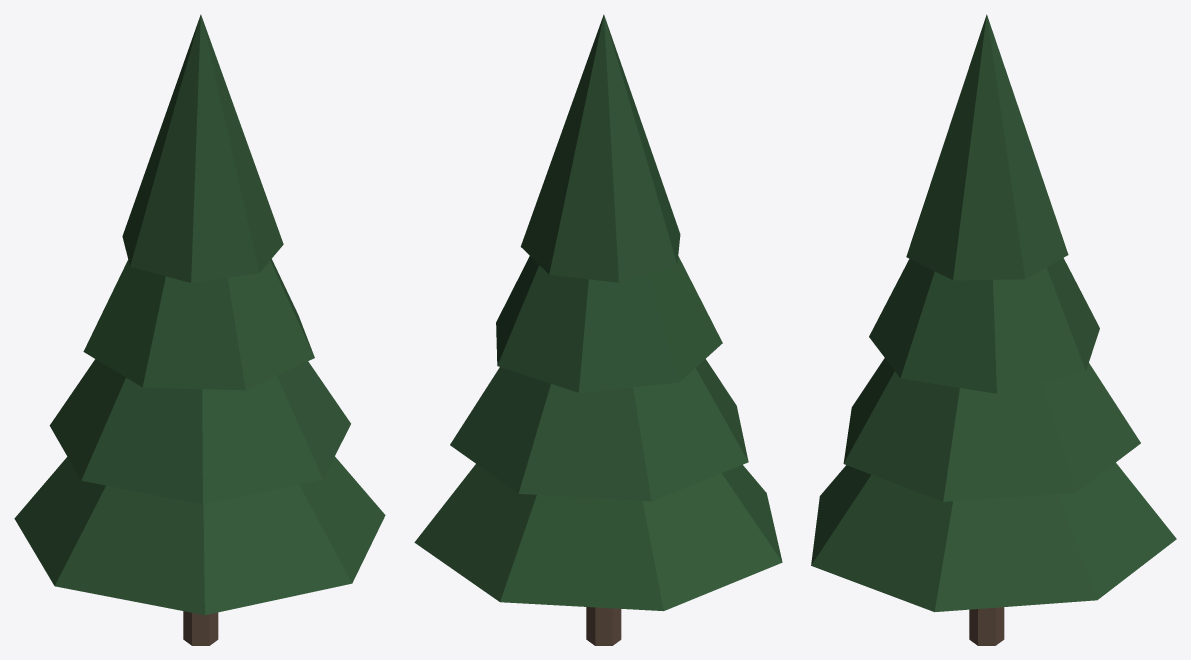
Rendered from gran_1.glb.
3 views of the same model, side by side, from view 1: azimuth 30°, elevation 25°; view 2: azimuth 150°, elevation 25°; view 3: azimuth 270°, elevation 25° (orthographic).
Parts seen in each view (by area): view 1: gran_1; view 2: gran_1; view 3: gran_1.
Boxes of the visible parts, x1,y1,x2,y2 form: gran_1: [14, 14, 385, 645]; gran_1: [414, 14, 782, 645]; gran_1: [811, 14, 1176, 645].
Size of the model in its own units: 3.82 by 7.11 by 3.77.
